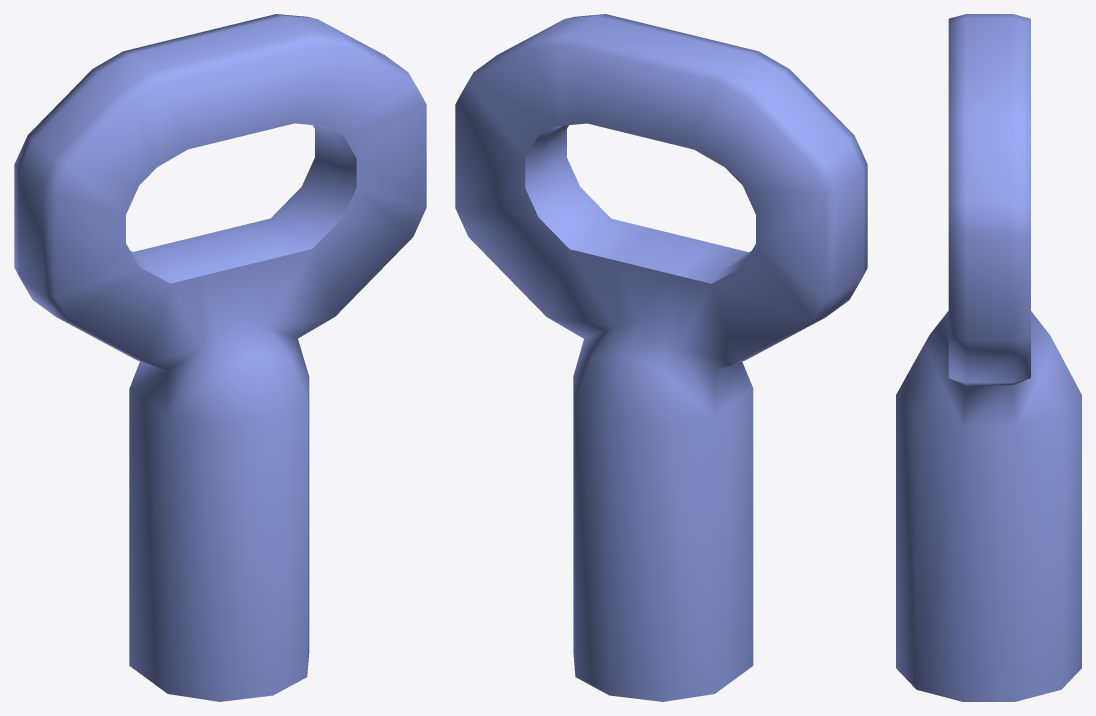
Rendered from Keys_36.FBX.
The picture shows the model from 3 angles, left to right: view 1: azimuth 30°, elevation 25°; view 2: azimuth 150°, elevation 25°; view 3: azimuth 270°, elevation 25°; orthographic projection.
Parts seen in each view (by area): view 1: Keys_36; view 2: Keys_36; view 3: Keys_36.
Part boxes in pixels (bbox=[...]): Keys_36: bbox=[14, 14, 426, 701]; Keys_36: bbox=[455, 14, 867, 701]; Keys_36: bbox=[896, 14, 1081, 701].
Size of the model in its own units: 1.22 by 1.9 by 0.5247.
